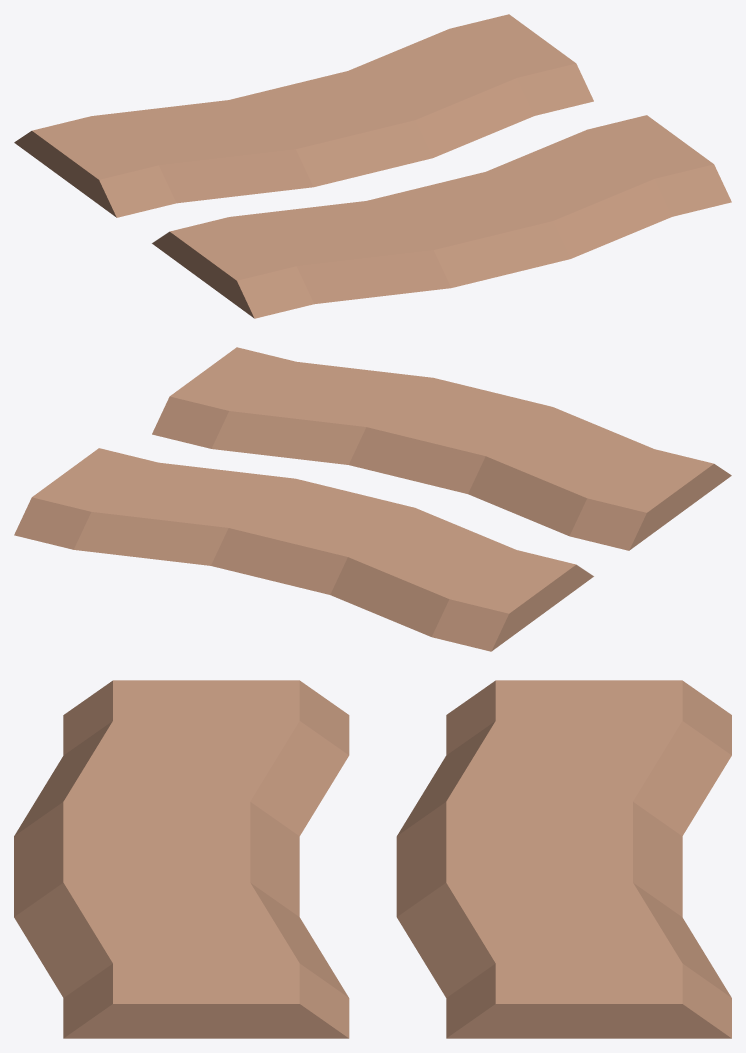
Rendered from crops_dirtDoubleRow.glb.
3 views of the same model, one above another, from view 1: azimuth 30°, elevation 25°; view 2: azimuth 150°, elevation 25°; view 3: azimuth 270°, elevation 25° (orthographic). The views are drawn at different scales.
Visible parts, largest first — view 1: crops_dirtDoubleRow; view 2: crops_dirtDoubleRow; view 3: crops_dirtDoubleRow.
Part boxes in pixels (x1,y1,x2,y2): crops_dirtDoubleRow: (14,14,731,318); crops_dirtDoubleRow: (14,347,731,651); crops_dirtDoubleRow: (14,680,731,1038).
Bounding box in the file's own units: 1 × 0.05 × 0.938.
